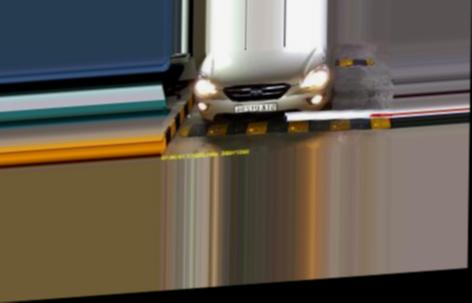License_Plate: (233, 100, 277, 117)
